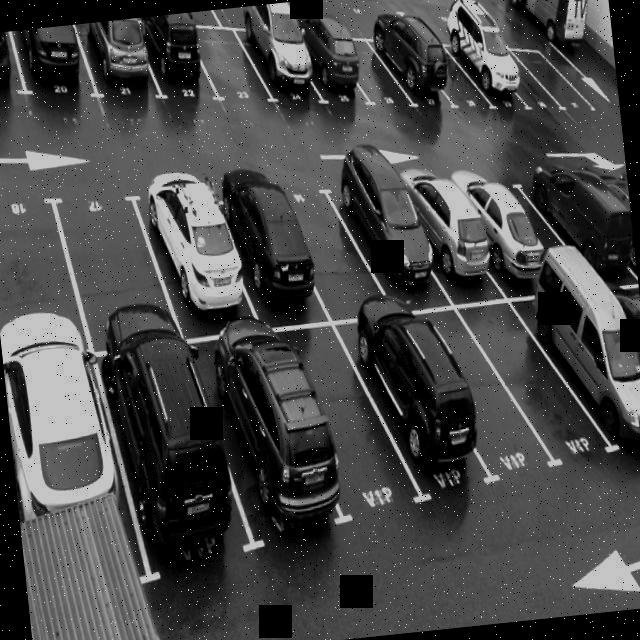car: (100, 343, 242, 570), (2, 347, 136, 582), (192, 319, 328, 548), (358, 305, 471, 510), (534, 251, 640, 453), (148, 183, 244, 336), (222, 170, 312, 316), (404, 150, 486, 300), (339, 168, 428, 302), (532, 148, 628, 268), (460, 160, 533, 274), (78, 17, 157, 116), (142, 10, 212, 119), (11, 23, 93, 115), (369, 19, 444, 118), (243, 17, 317, 114), (296, 16, 362, 112), (454, 19, 516, 116), (602, 148, 637, 278), (617, 258, 640, 432), (0, 31, 18, 112)
free: (466, 273, 594, 480), (282, 312, 404, 528), (416, 287, 532, 493), (70, 190, 168, 359), (286, 172, 379, 330), (0, 179, 80, 343), (494, 154, 576, 273), (340, 20, 407, 126), (488, 28, 558, 126), (522, 34, 592, 132), (194, 22, 262, 109), (418, 18, 472, 114)
